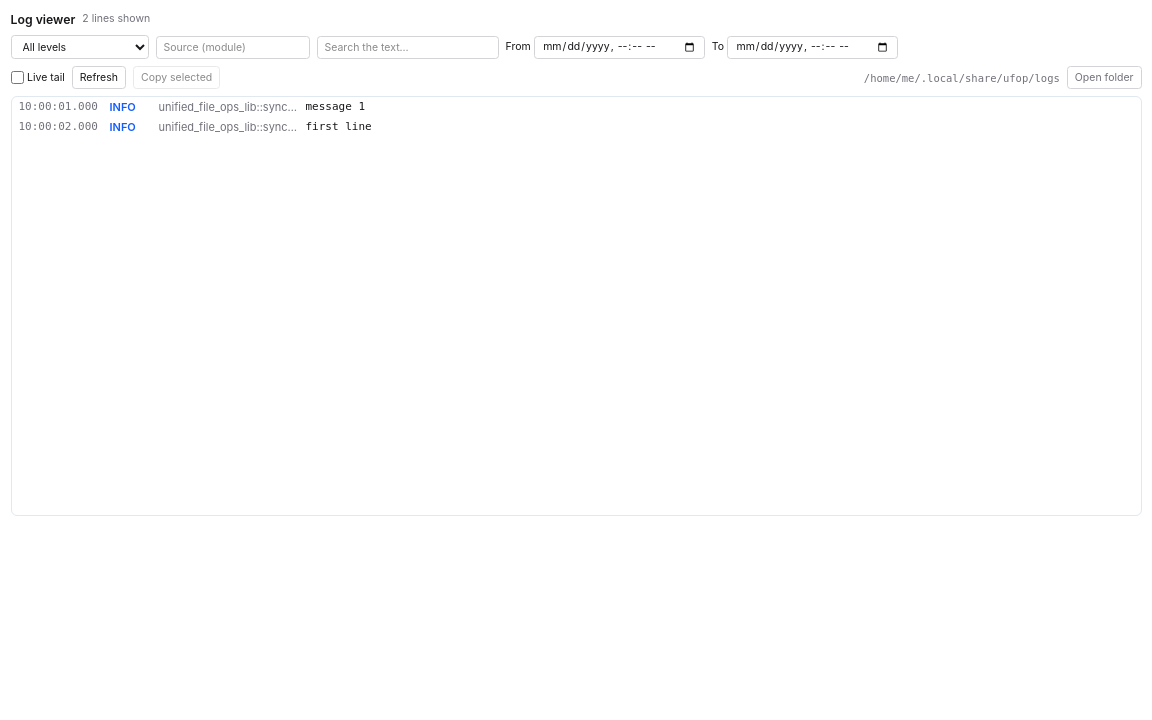
Test case: LogViewer › shows one selected line in full
Step 1. Click the 2nd option → x=195, y=127, box x1=18 y1=120 x2=372 y2=134
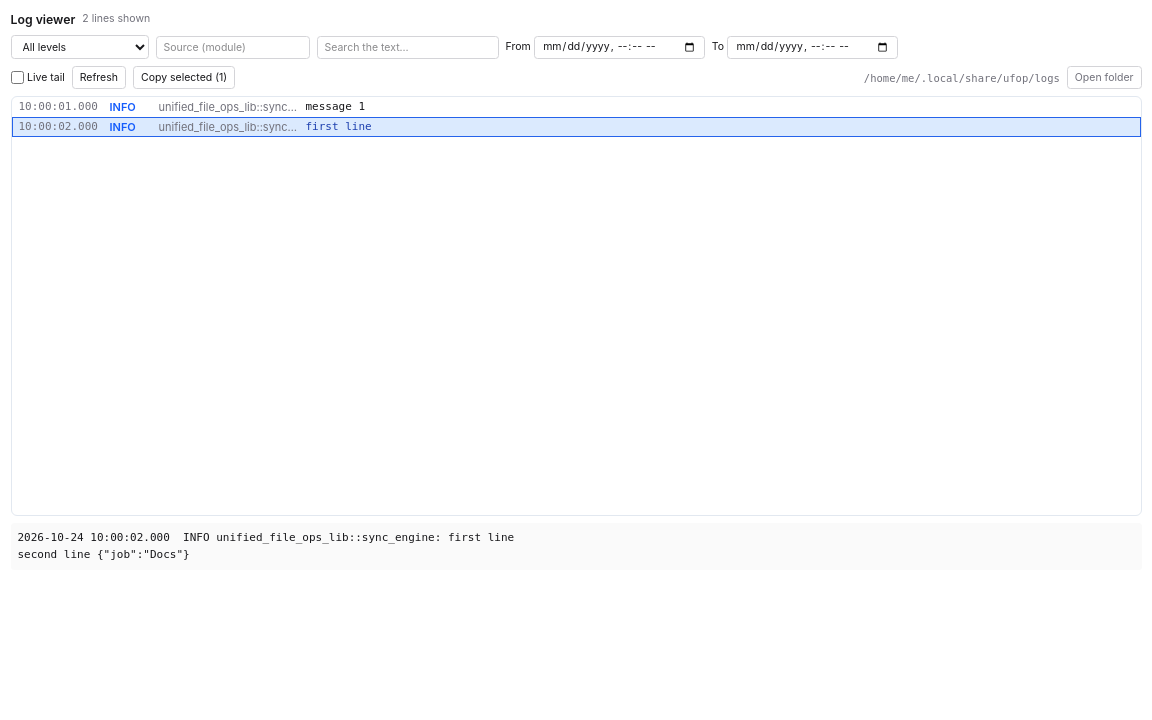
Check: the text with test id "log-detail" shows "second line", box x1=18 y1=531 x2=514 y2=560
Check: the text with test id "log-detail" shows "\"job\":\"Docs\"", box x1=18 y1=531 x2=514 y2=560
